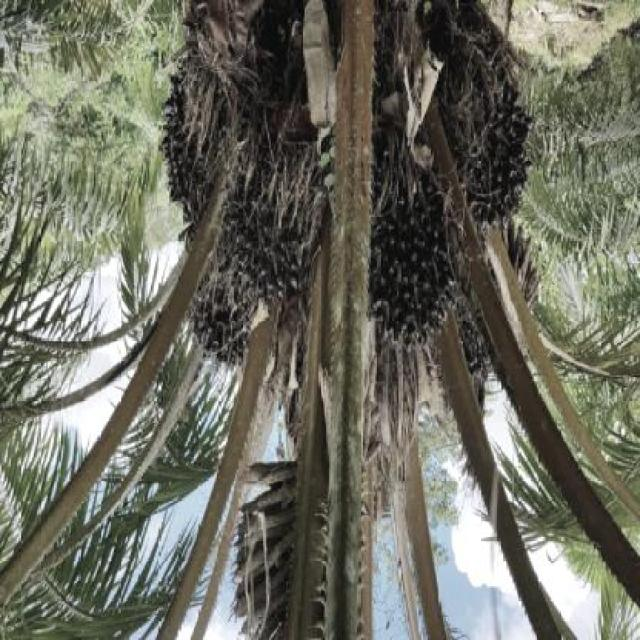palm-oil: (165, 58, 332, 294), (365, 187, 464, 341), (456, 70, 548, 230), (191, 267, 268, 376)
